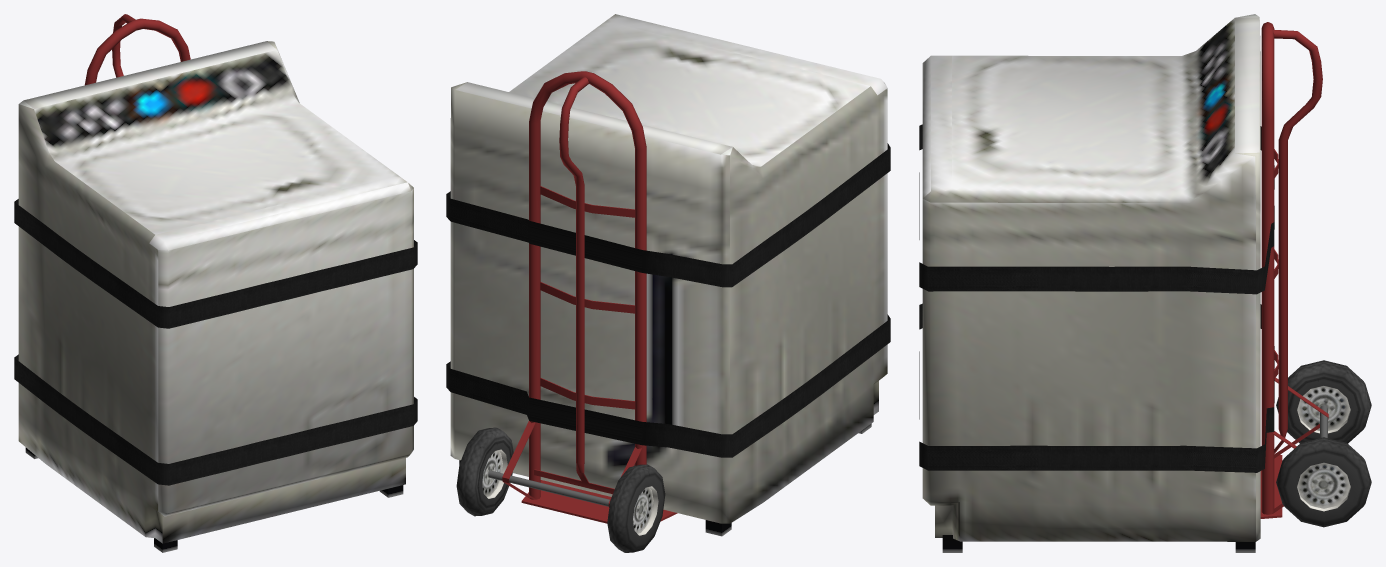
Rendered from PA_Washer.fbx.
3 views of the same model, side by side, from view 1: azimuth 30°, elevation 25°; view 2: azimuth 150°, elevation 25°; view 3: azimuth 270°, elevation 25° (orthographic). The views are drawn at different scales.
Parts seen in each view (by area): view 1: Washer; view 2: Washer; view 3: Washer.
Boxes of the visible parts, x1=… form: Washer: x1=14, y1=14, x2=417, y2=552; Washer: x1=446, y1=14, x2=890, y2=552; Washer: x1=919, y1=14, x2=1371, y2=552.
Bounding box in the file's own units: 0.5451 × 0.7922 × 0.7058.
